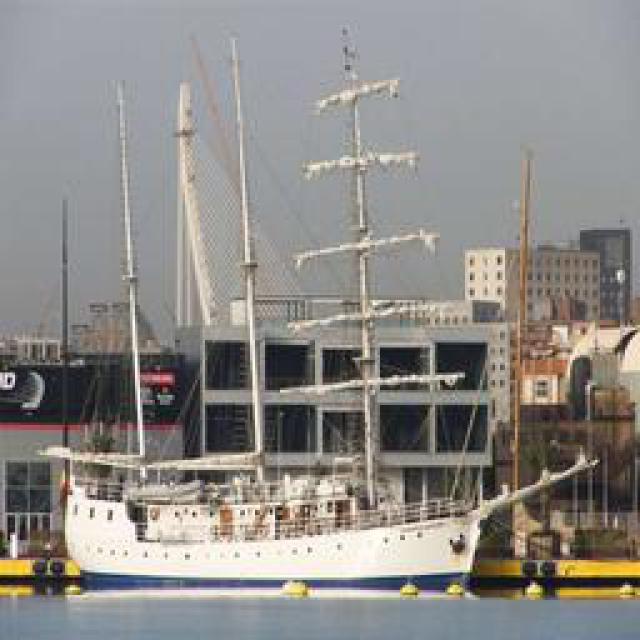Ship: (36, 23, 614, 591)
